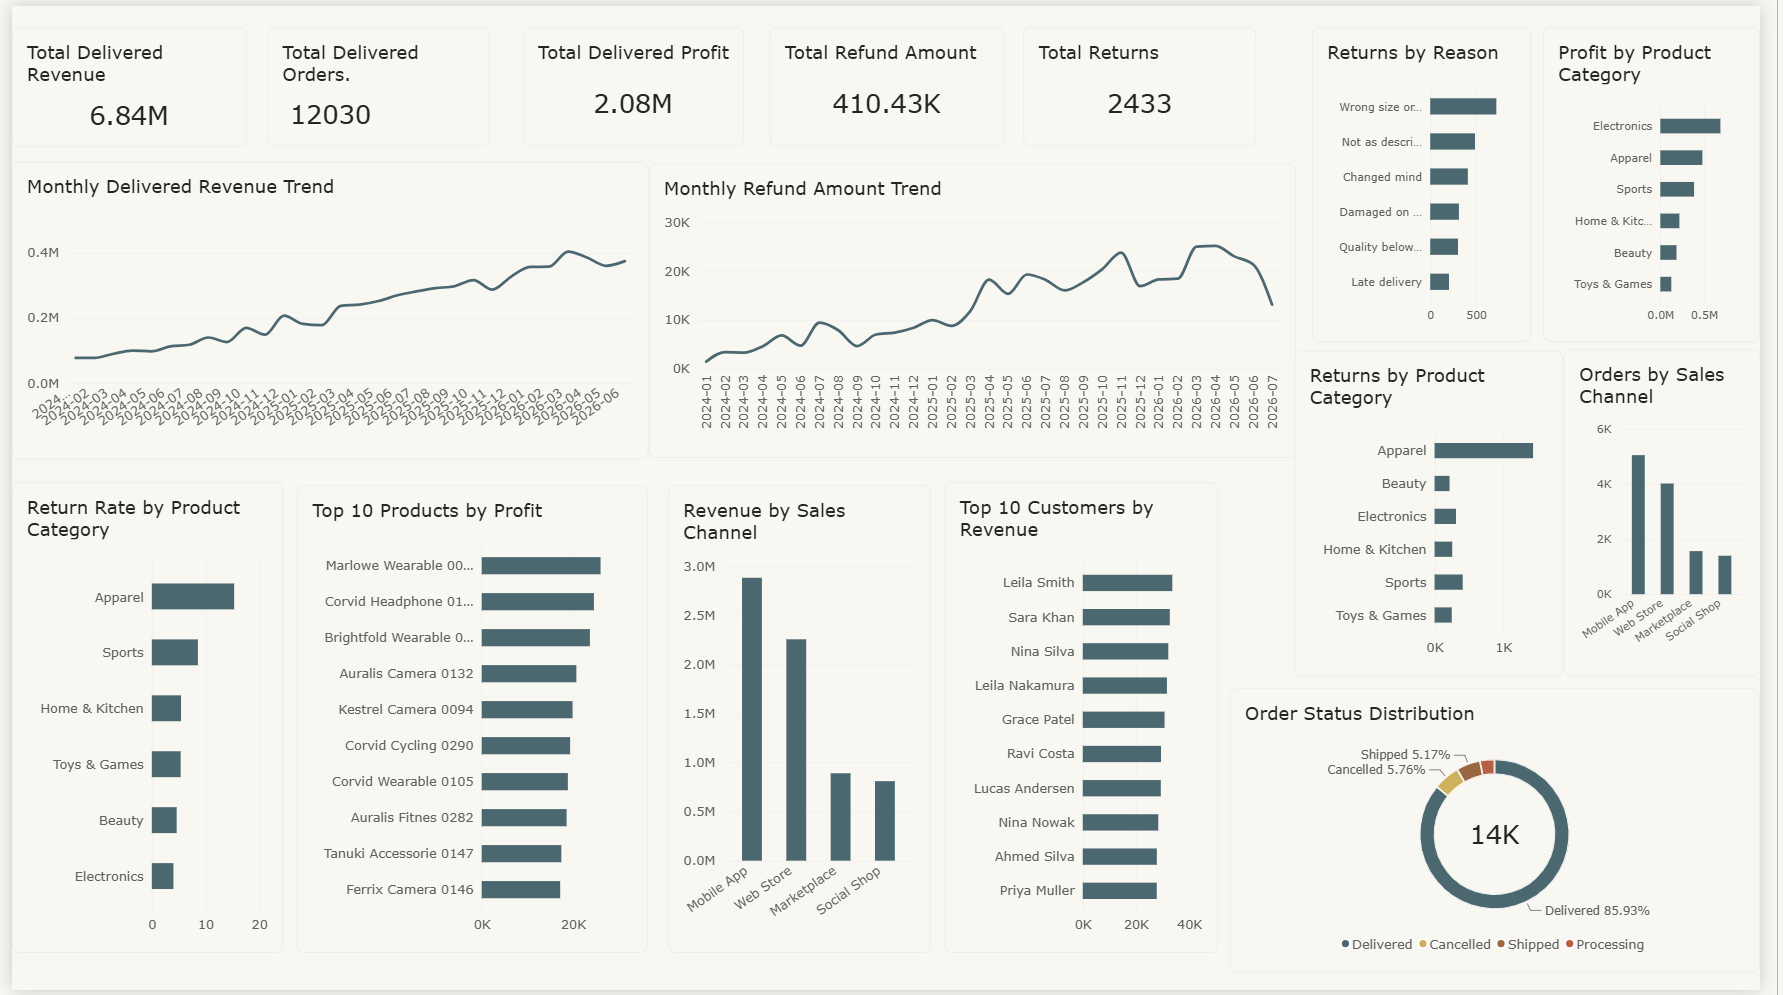

This screenshot's page, from the dashboard's own definition file:
{"tool":"powerbi","page":{"name":"Page 1","canvas":[1920,1080],"ordinal":0},"visuals":[{"type":"kpi","title":"Total Delivered Revenue","fields":{"Indicator":["Sum(public vw_business_kpis.delivered_revenue_usd)"],"TrendLine":["public vw_business_kpis.delivered_revenue_usd"]},"box":[0,65.3,257.5,131.2],"z":0},{"type":"kpi","title":"Total Delivered Profit","fields":{"Indicator":["Sum(public vw_business_kpis.delivered_profit_usd)"],"TrendLine":["public vw_business_kpis.delivered_profit_usd"]},"box":[561,77,242,131],"z":1000},{"type":"kpi","title":"Total Refund Amount","fields":{"Indicator":["Sum(public vw_business_kpis.total_refunds_usd)"],"TrendLine":["public vw_business_kpis.total_refunds_usd"]},"box":[821,77,257.5,130.7],"z":2000},{"type":"kpi","title":"Total Returns","fields":{"Indicator":["Sum(public vw_business_kpis.total_returns)"],"TrendLine":["public vw_business_kpis.total_returns"]},"box":[1104,76,255.6,130.7],"z":3000},{"type":"lineChart","title":"Monthly Delivered Revenue Trend","fields":{"Category":["public vw_monthly_revenue_trend.order_month"],"Y":["Sum(public vw_monthly_revenue_trend.monthly_revenue_usd)"]},"box":[0,213.3,699.6,326.7],"z":4000},{"type":"clusteredBarChart","title":"Return Rate by Product Category","fields":{"Category":["public vw_category_return_analysis.category"],"Y":["Avg(public vw_category_return_analysis.return_rate_percentage)"]},"box":[0,563.1,297.9,517],"z":5000},{"type":"clusteredBarChart","title":"Top 10 Products by Profit","fields":{"Category":["public vw_product_profitability.product_name"],"Y":["Sum(public vw_product_profitability.profit_usd)"]},"box":[315.2,567,384.4,513.2],"z":6000},{"type":"lineChart","title":"Monthly Refund Amount Trend","fields":{"Category":["public vw_monthly_return_trend.return_month"],"Y":["Sum(public vw_monthly_return_trend.total_refunds_usd)"]},"box":[699.6,222.9,709.2,322.9],"z":7000},{"type":"clusteredColumnChart","title":"Revenue by Sales Channel","fields":{"Category":["public vw_sales_channel_performance.sales_channel"],"Y":["Sum(public vw_sales_channel_performance.total_revenue_usd)"]},"box":[720.7,566.8,288.3,513.2],"z":8000},{"type":"clusteredBarChart","title":"Top 10 Customers by Revenue","fields":{"Category":["public vw_customer_value_analysis.customer_name"],"Y":["Sum(public vw_customer_value_analysis.total_revenue_usd)"]},"box":[1024.4,563,299.8,517],"z":9000},{"type":"donutChart","title":"\tOrder Status Distribution","fields":{"Category":["public vw_order_status_analysis.order_status"],"Y":["Sum(public vw_order_status_analysis.total_orders)"]},"box":[1337.7,749.5,581.8,312.3],"z":10000},{"type":"clusteredBarChart","title":"Returns by Reason","fields":{"Category":["public vw_return_reason_analysis.return_reason"],"Y":["Sum(public vw_return_reason_analysis.total_returns)"]},"box":[1427.5,22.3,239.8,345.7],"z":11000},{"type":"clusteredColumnChart","title":"Orders by Sales Channel","fields":{"Category":["public vw_sales_channel_performance.sales_channel"],"Y":["Sum(public vw_sales_channel_performance.total_orders)"]},"box":[1704.7,376.7,215.3,359.4],"z":12000},{"type":"clusteredBarChart","title":"Returns by Product Category","fields":{"Category":["public vw_category_return_analysis.category"],"Y":["Sum(public vw_category_return_analysis.units_returned)"]},"box":[1408.8,378.6,294.1,357.5],"z":13000},{"type":"clusteredBarChart","title":"Profit by Product Category","fields":{"Category":["public vw_product_profitability.category"],"Y":["Sum(public vw_product_profitability.profit_usd)"]},"box":[1682.1,22.3,237.9,345.7],"z":14000},{"type":"kpi","title":"Total Delivered Orders.","fields":{"Indicator":["Sum(public vw_business_kpis.delivered_orders)"],"TrendLine":["public vw_business_kpis.delivered_orders"]},"box":[299,77,244,131],"z":15000},{"type":"textbox","box":[100,22,1528,66],"z":16000}]}

Visuals, with their boxes in screenshot pixels (x1, y1, x2, y2), scaled from the page's 1920x1080 canvas onto the 1783x995 screenshot:
"Total Delivered Revenue" kpi: <bbox>0, 60, 239, 181</bbox>
"Total Delivered Profit" kpi: <bbox>521, 71, 746, 192</bbox>
"Total Refund Amount" kpi: <bbox>762, 71, 1002, 191</bbox>
"Total Returns" kpi: <bbox>1025, 70, 1263, 190</bbox>
"Monthly Delivered Revenue Trend" lineChart: <bbox>0, 197, 650, 498</bbox>
"Return Rate by Product Category" clusteredBarChart: <bbox>0, 519, 277, 994</bbox>
"Top 10 Products by Profit" clusteredBarChart: <bbox>293, 522, 650, 994</bbox>
"Monthly Refund Amount Trend" lineChart: <bbox>650, 205, 1308, 503</bbox>
"Revenue by Sales Channel" clusteredColumnChart: <bbox>669, 522, 937, 994</bbox>
"Top 10 Customers by Revenue" clusteredBarChart: <bbox>951, 519, 1230, 994</bbox>
"	Order Status Distribution" donutChart: <bbox>1242, 691, 1782, 978</bbox>
"Returns by Reason" clusteredBarChart: <bbox>1326, 21, 1548, 339</bbox>
"Orders by Sales Channel" clusteredColumnChart: <bbox>1583, 347, 1782, 678</bbox>
"Returns by Product Category" clusteredBarChart: <bbox>1308, 349, 1581, 678</bbox>
"Profit by Product Category" clusteredBarChart: <bbox>1562, 21, 1782, 339</bbox>
"Total Delivered Orders." kpi: <bbox>278, 71, 504, 192</bbox>
textbox: <bbox>93, 20, 1512, 81</bbox>
